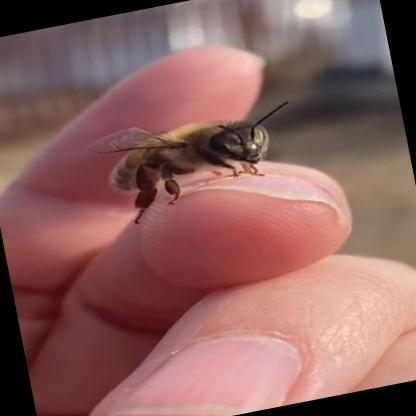bee: (77, 76, 350, 242)
